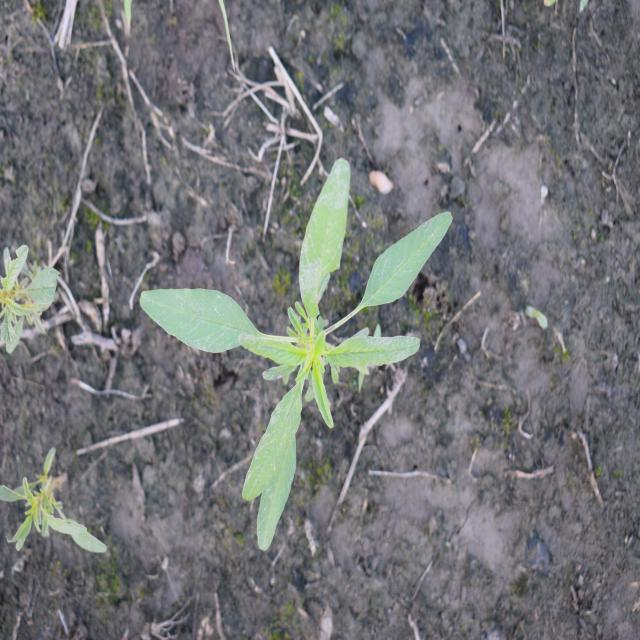Waterhemp: (137, 156, 455, 554), (1, 446, 110, 557), (0, 244, 62, 356)
